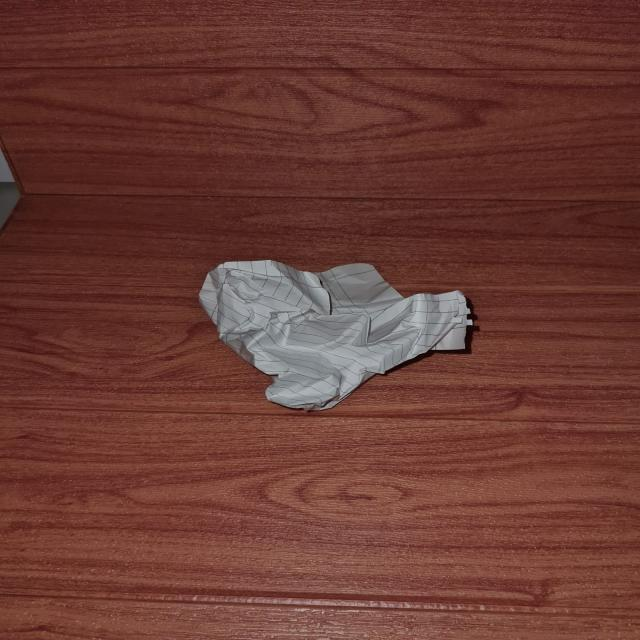Paper: (198, 256, 470, 401)
